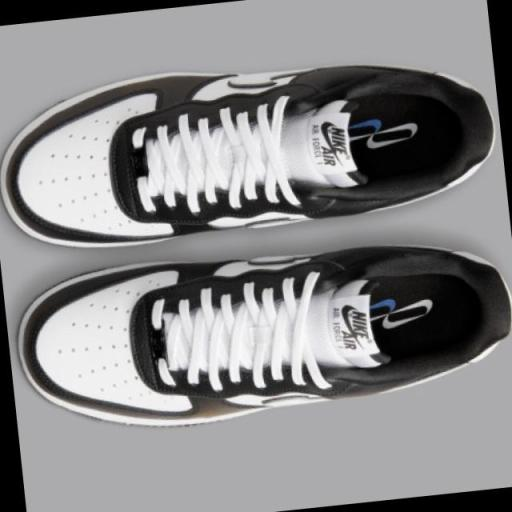Nike: (338, 303, 356, 342), (330, 126, 348, 156)
